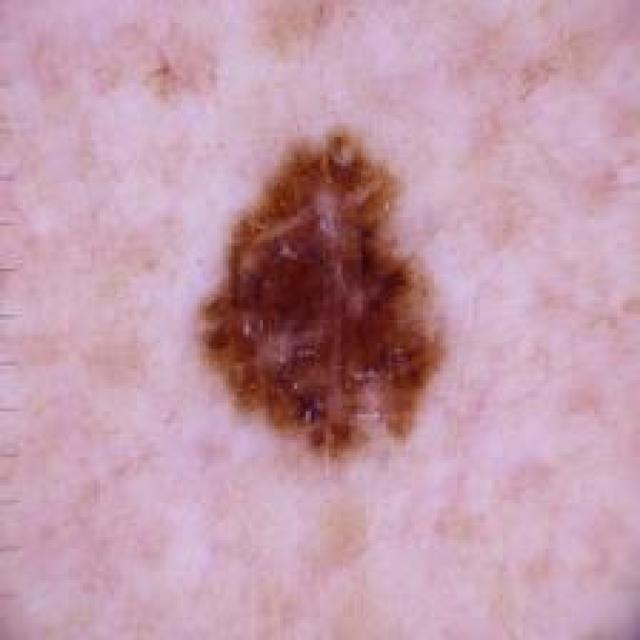Cancer: (194, 128, 446, 463)
